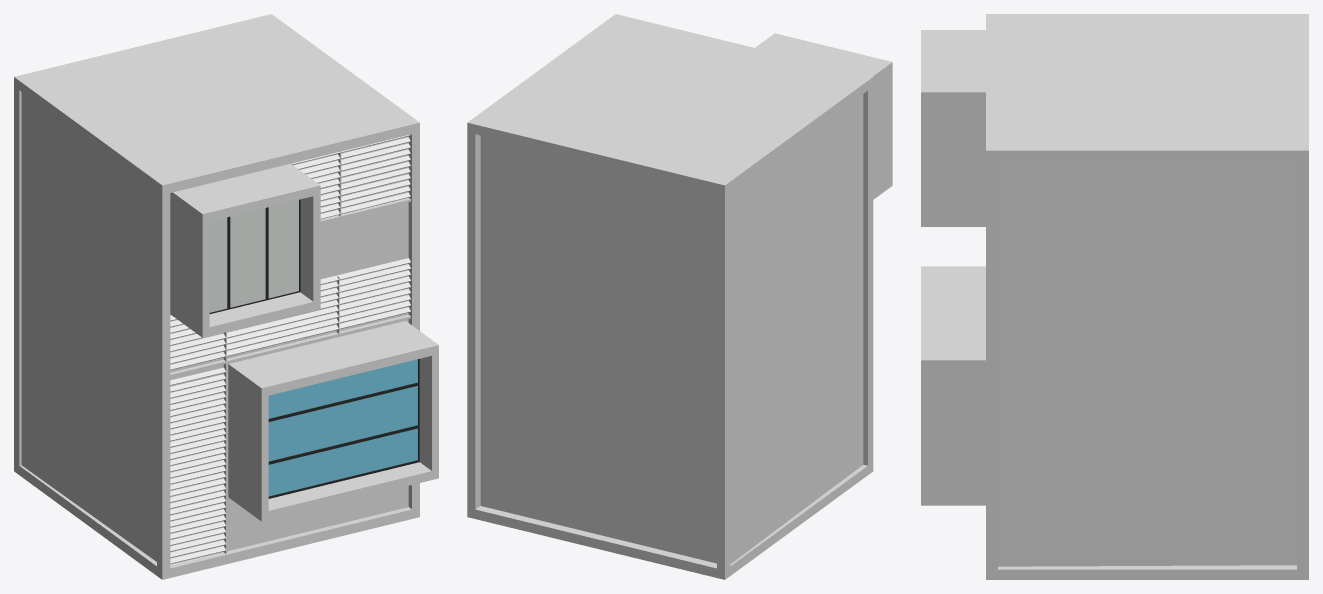
File: Bloc_21F.fbx
3 views of the same model, side by side, from view 1: azimuth 30°, elevation 25°; view 2: azimuth 150°, elevation 25°; view 3: azimuth 270°, elevation 25° (orthographic). The views are drawn at different scales.
Parts seen in each view (by area): view 1: Bloc_21F; view 2: Bloc_21F; view 3: Bloc_21F.
Boxes of the visible parts, left/top/right/bottom form: Bloc_21F: left=14, top=14, right=438, bottom=579; Bloc_21F: left=467, top=14, right=892, bottom=579; Bloc_21F: left=921, top=14, right=1308, bottom=579.
Size of the model in its own units: 748 by 914 by 625.
